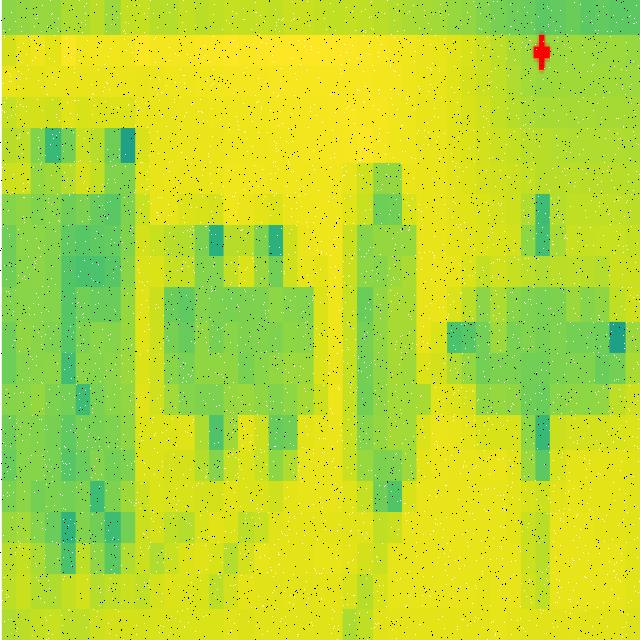Concrete: (12, 185, 137, 511)
Glass: (475, 285, 609, 414)
Metal: (161, 286, 315, 420)
Wood: (346, 227, 418, 468)
